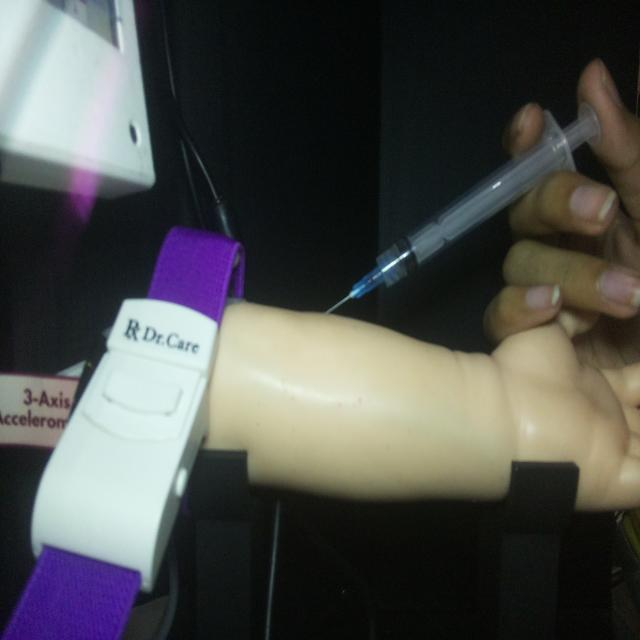27 degrees: (323, 98, 602, 316)
